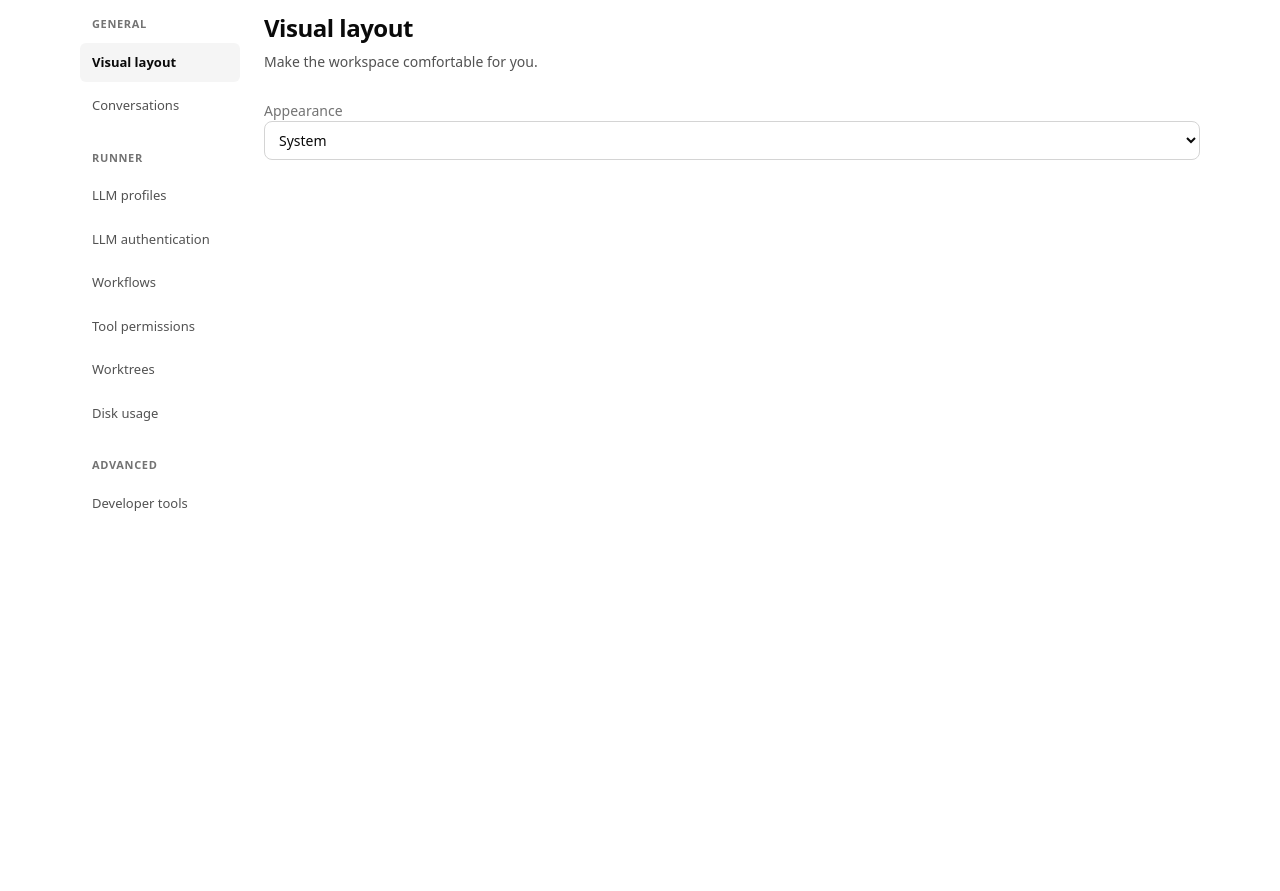
API key form saves credentials and clears the secret
The image size is (1280, 891).
Click the button "LLM authentication".
click(160, 239)  # box [80,220,240,259]
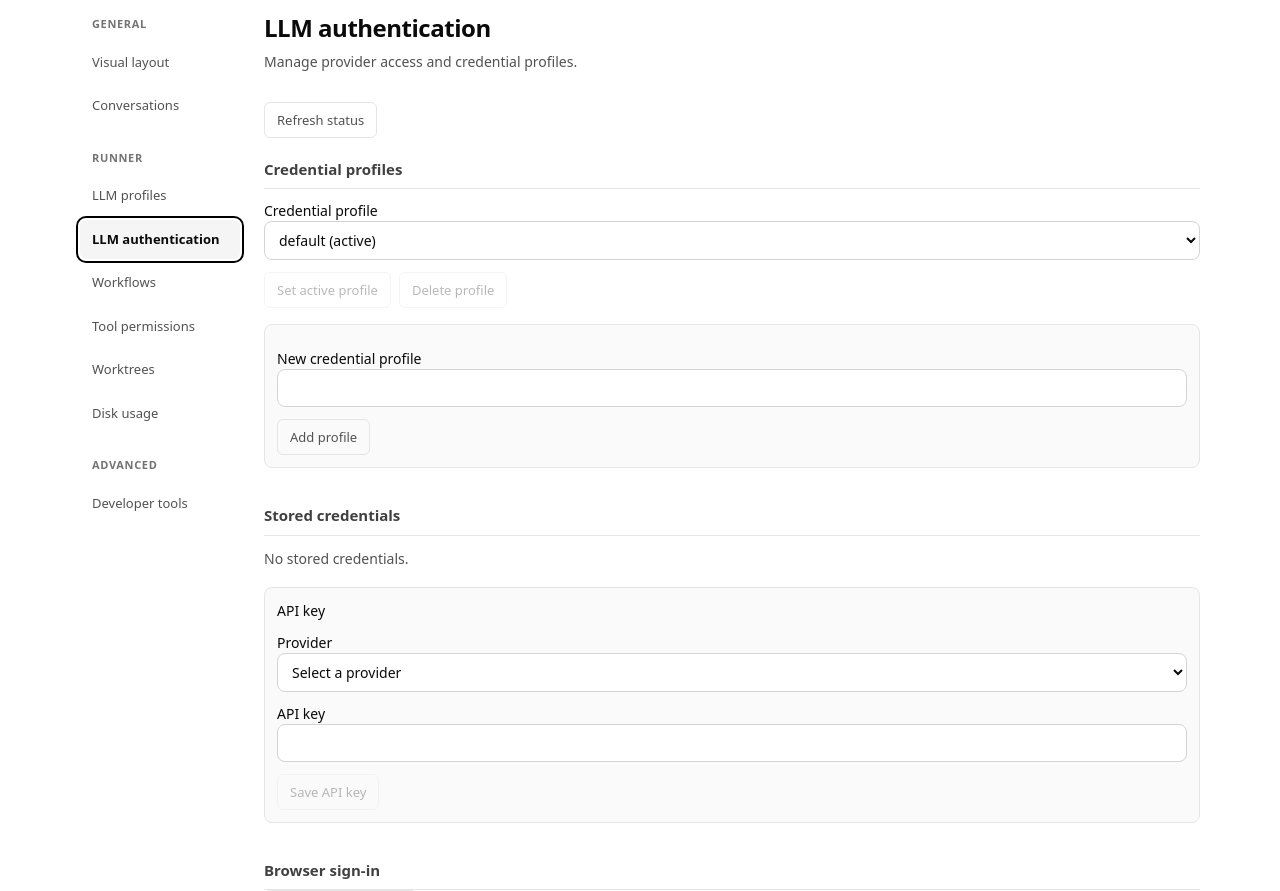
Result: the dropdown labelled "Credential profile" shows "default (active)" at [264,221,1200,260]
Select "OpenAI" in the dropdown labelled "Provider" at [732, 672], box [277,653,1187,692]
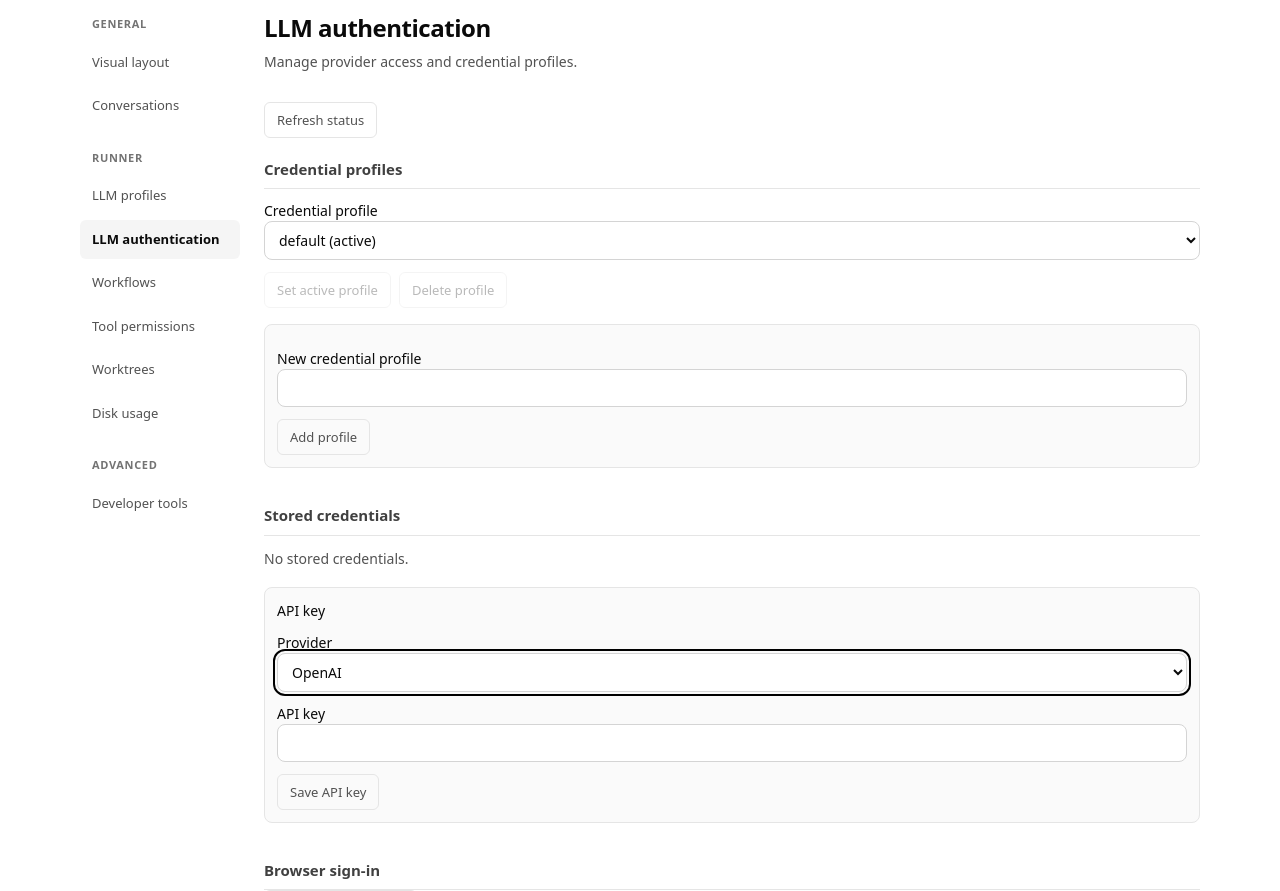
Type "placeholder" into the password field labelled "API key".
click(732, 743); type("placeholder")  # box [277,724,1187,762]
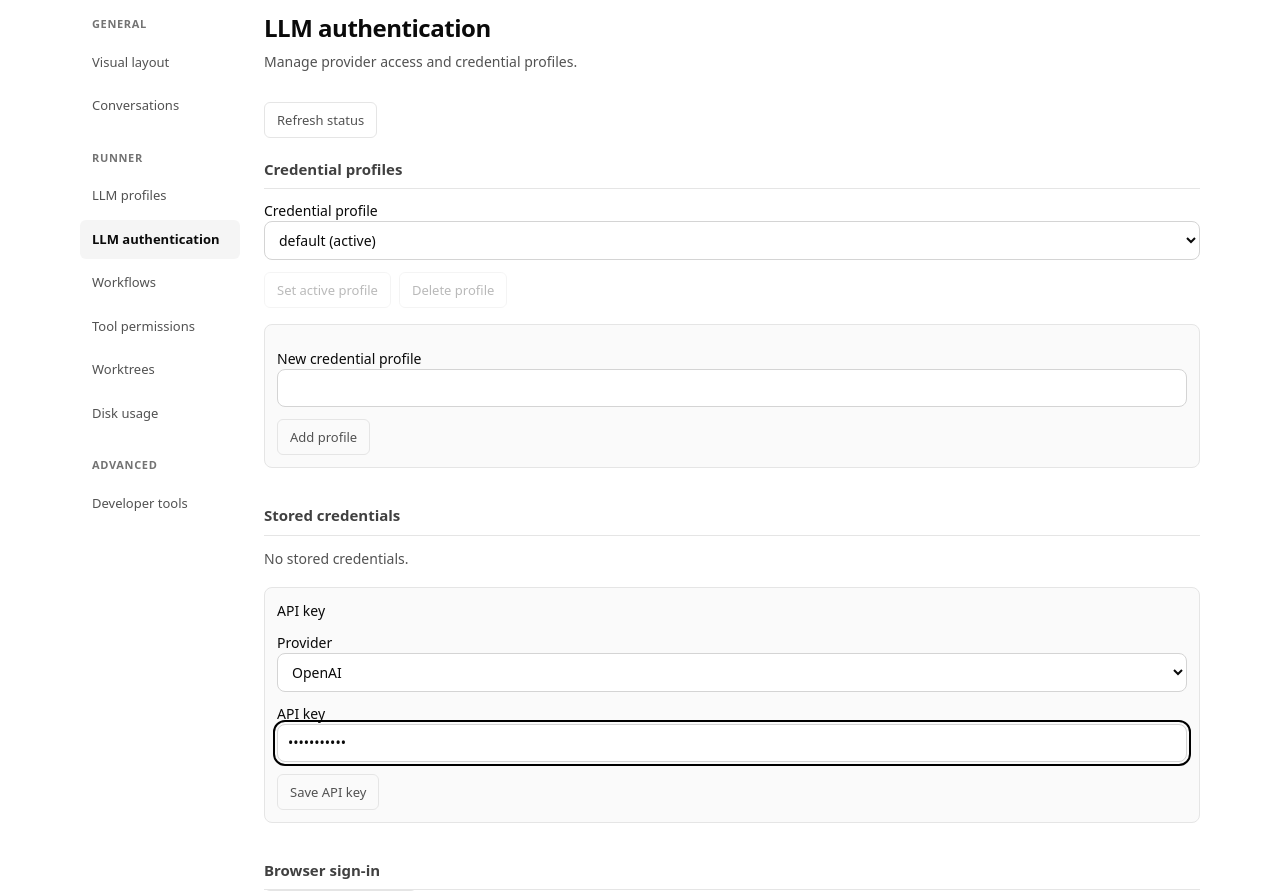
Click the button "Save API key".
click(328, 792)  # box [277,774,379,810]
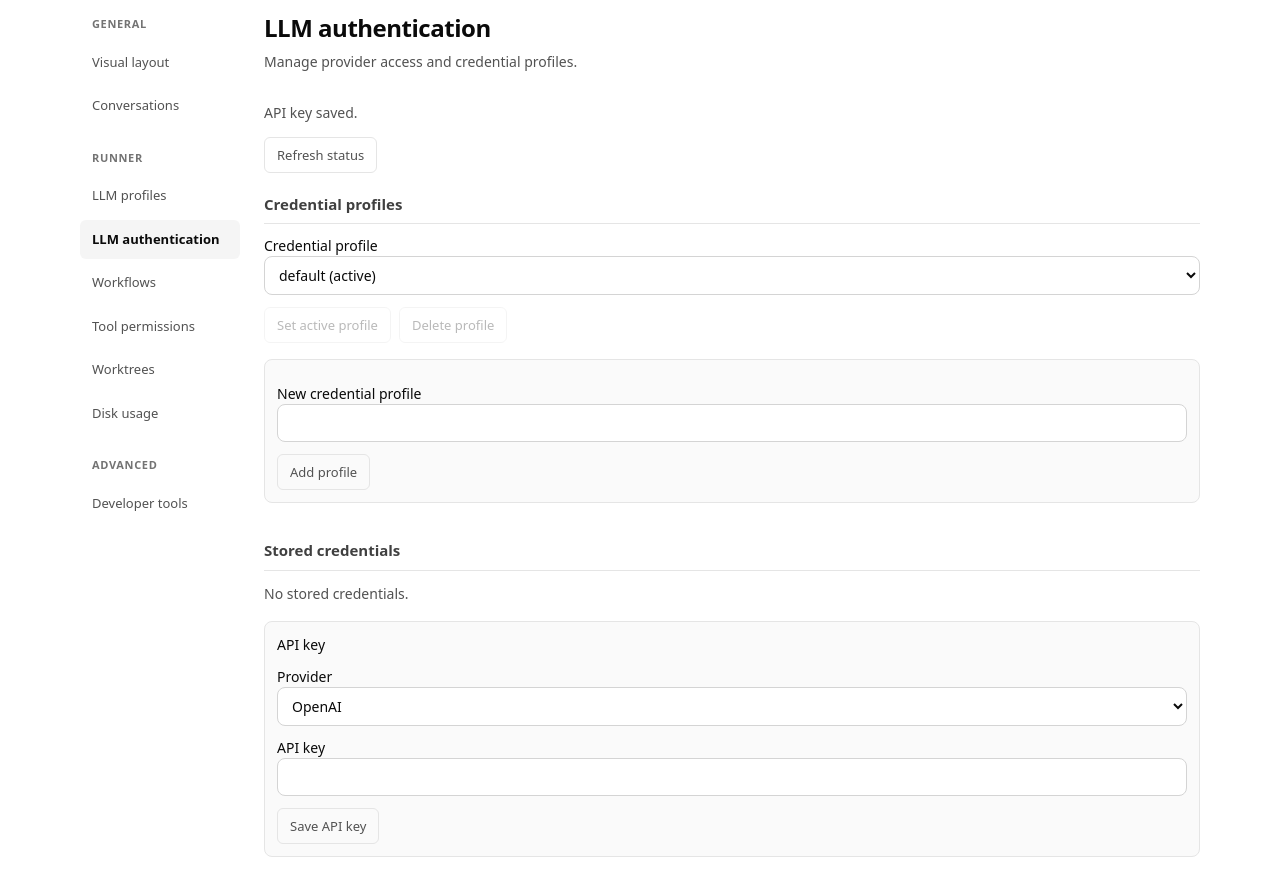
Result: the text "API key saved." is shown at [264,103,358,122]
Result: the password field labelled "API key" is empty at [277,758,1187,796]
